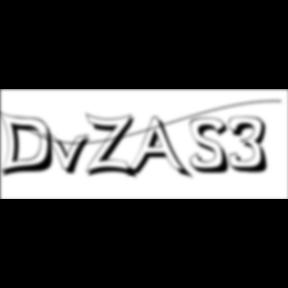3: (229, 116, 275, 176)
A: (126, 116, 194, 182)
D: (0, 110, 60, 180)
S: (190, 117, 236, 176)
Z: (86, 112, 140, 181)
v: (43, 131, 97, 177)
